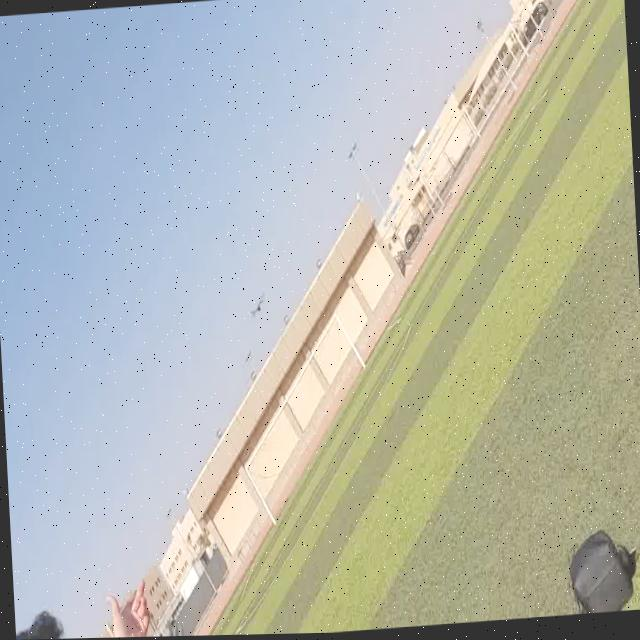drone: (246, 282, 270, 323)
